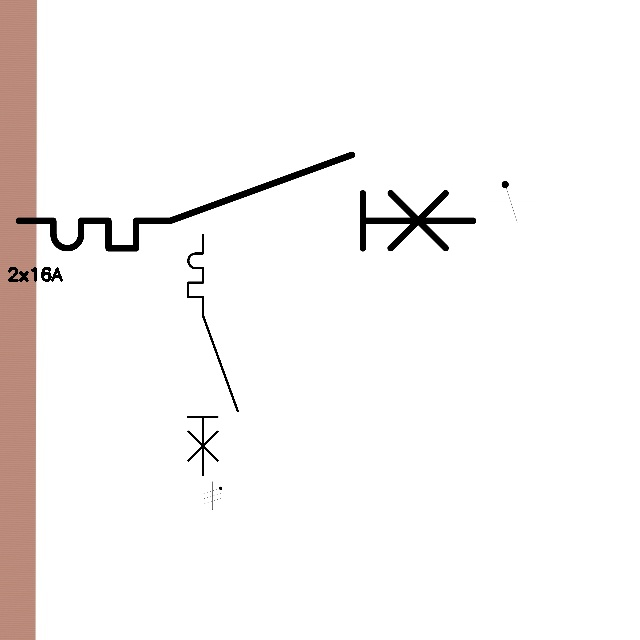interruptor_termomagnetico: (7, 143, 485, 260), (182, 229, 243, 481)
